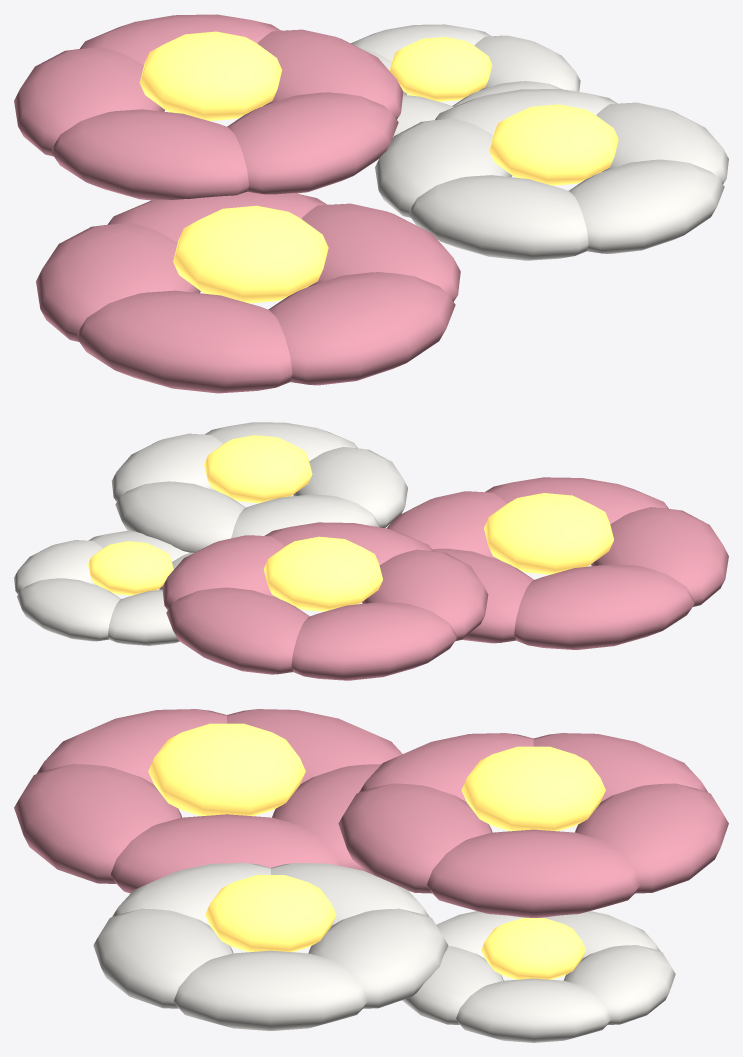
File: SM_Flower_Cluster.fbx
3 renders of one model, top to bottom at view 1: azimuth 30°, elevation 25°; view 2: azimuth 150°, elevation 25°; view 3: azimuth 270°, elevation 25°, orthographic. The views are drawn at different scales.
Visible parts, largest first — view 1: Sphere.003, Sphere.004, Sphere.015, Sphere.016, Sphere.009, Sphere.005, Sphere.002, Sphere.010, Sphere.017, Sphere.014, Sphere, Sphere.011 (+11 smaller); view 2: Sphere.002, Sphere.014, Sphere.013, Sphere.005, Sphere.003, Sphere.017, Sphere.007, Sphere.015, Sphere.011, Sphere.009, Sphere.012, Sphere.019 (+11 smaller); view 3: Sphere.012, Sphere.004, Sphere.006, Sphere.005, Sphere.013, Sphere.016, Sphere, Sphere.017, Sphere.010, Sphere.007, Sphere.011, Sphere.018 (+12 smaller).
Boxes of the visible parts, x1=… form: Sphere.003: x1=77, y1=290, x2=292, y2=393; Sphere.004: x1=268, y1=272, x2=455, y2=385; Sphere.015: x1=51, y1=109, x2=248, y2=200; Sphere.016: x1=227, y1=92, x2=398, y2=194; Sphere.009: x1=409, y1=175, x2=588, y2=260; Sphere.005: x1=173, y1=205, x2=328, y2=303; Sphere.002: x1=36, y1=222, x2=200, y2=341; Sphere.010: x1=569, y1=159, x2=724, y2=253; Sphere.017: x1=139, y1=31, x2=282, y2=121; Sphere.014: x1=14, y1=47, x2=164, y2=156; Sphere: x1=301, y1=203, x2=460, y2=301; Sphere.011: x1=489, y1=104, x2=618, y2=185; Sphere.002: x1=514, y1=564, x2=694, y2=649; Sphere.014: x1=291, y1=602, x2=456, y2=680; Sphere.013: x1=166, y1=587, x2=309, y2=674; Sphere.005: x1=484, y1=493, x2=613, y2=574; Sphere.003: x1=591, y1=507, x2=728, y2=606; Sphere.017: x1=264, y1=536, x2=382, y2=611; Sphere.007: x1=115, y1=481, x2=245, y2=552; Sphere.015: x1=362, y1=549, x2=488, y2=641; Sphere.011: x1=204, y1=435, x2=312, y2=503; Sphere.009: x1=293, y1=447, x2=407, y2=527; Sphere.012: x1=162, y1=535, x2=284, y2=610; Sphere.019: x1=17, y1=578, x2=120, y2=641; Sphere.012: x1=427, y1=829, x2=640, y2=917; Sphere.004: x1=14, y1=764, x2=181, y2=883; Sphere.006: x1=174, y1=950, x2=367, y2=1030; Sphere.005: x1=148, y1=723, x2=305, y2=816; Sphere.013: x1=575, y1=783, x2=728, y2=893; Sphere.016: x1=338, y1=783, x2=492, y2=893; Sphere: x1=110, y1=814, x2=339, y2=893; Sphere.017: x1=461, y1=746, x2=605, y2=831; Sphere.010: x1=93, y1=908, x2=233, y2=1008; Sphere.007: x1=308, y1=908, x2=448, y2=1008; Sphere.011: x1=205, y1=875, x2=336, y2=952; Sphere.018: x1=456, y1=978, x2=611, y2=1042.
Bounding box in the file's own units: 34.53 × 6.98 × 32.65.
